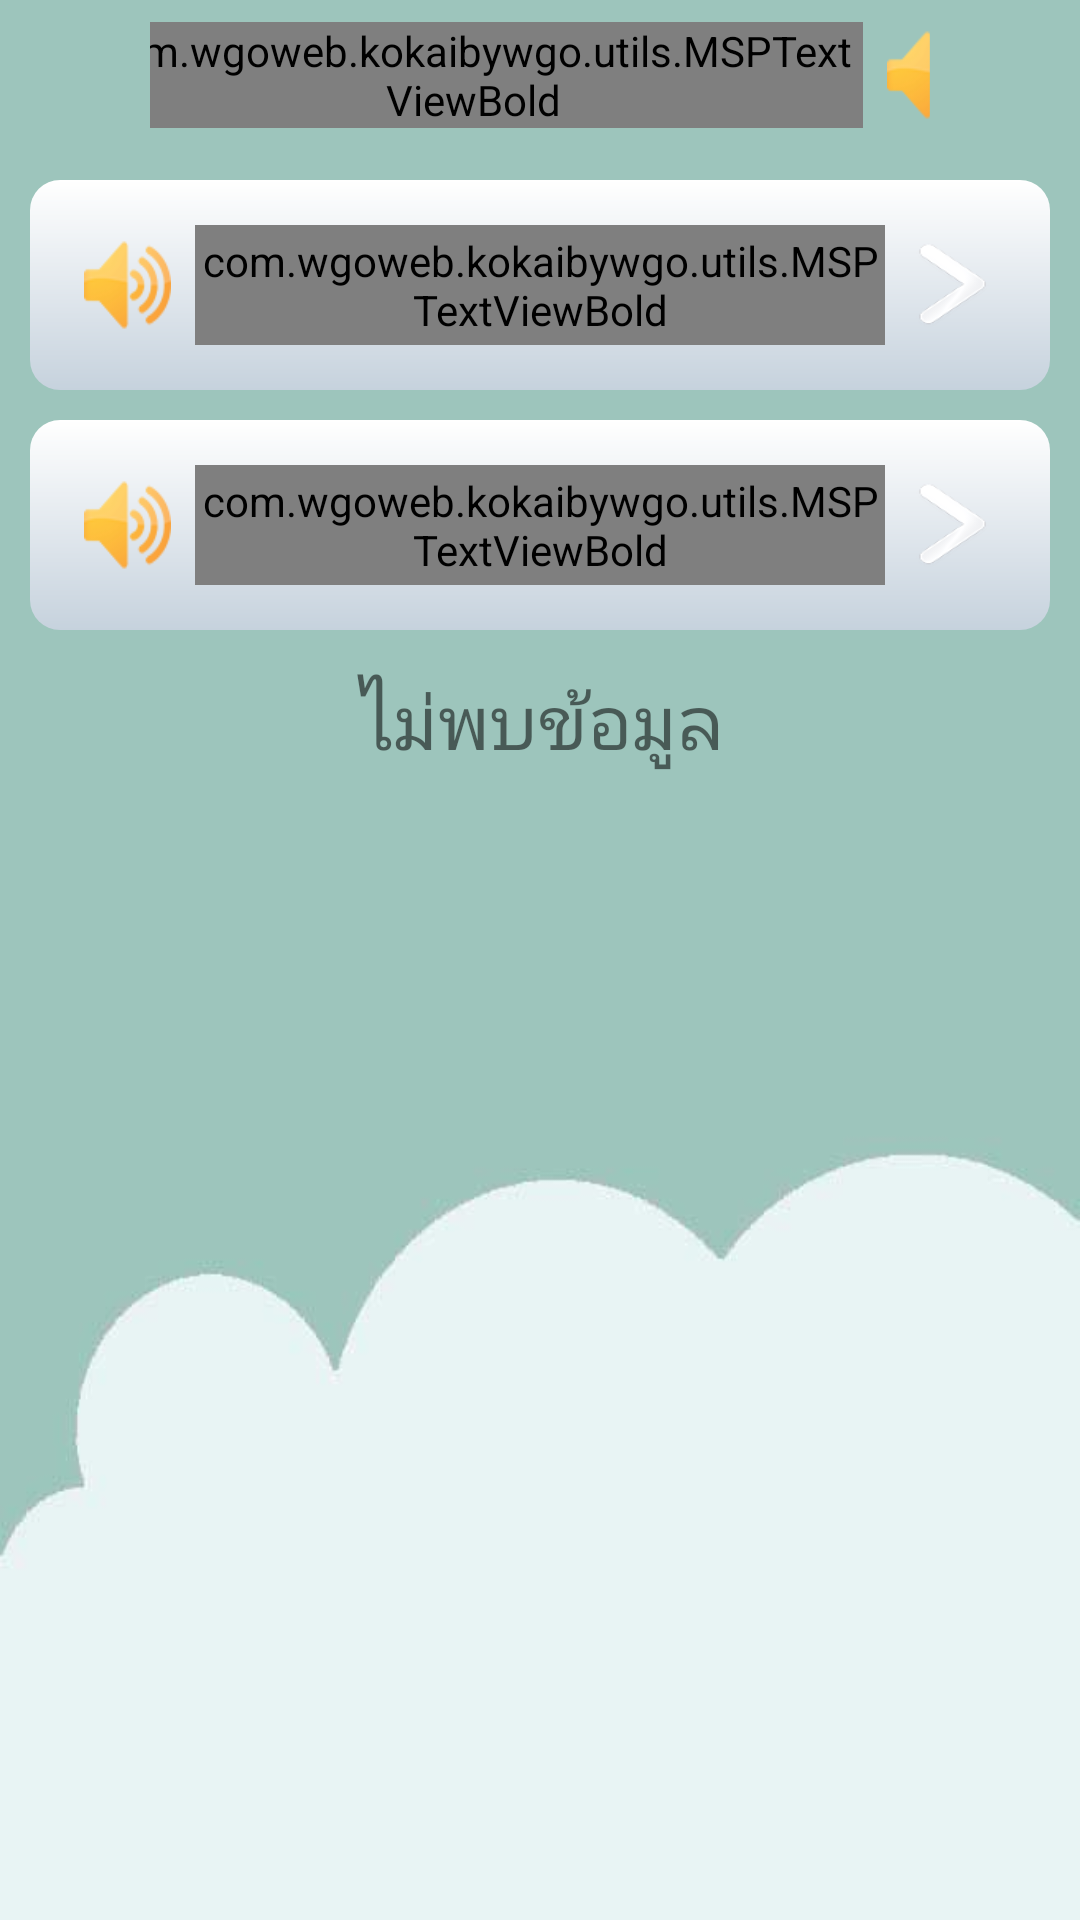

Named icons in this screenshot (1080w x 1920h) and their centers, point (x, y):
go to next: point (952, 285), point (952, 525)
sound on: point (908, 75), point (127, 285), point (127, 525)
